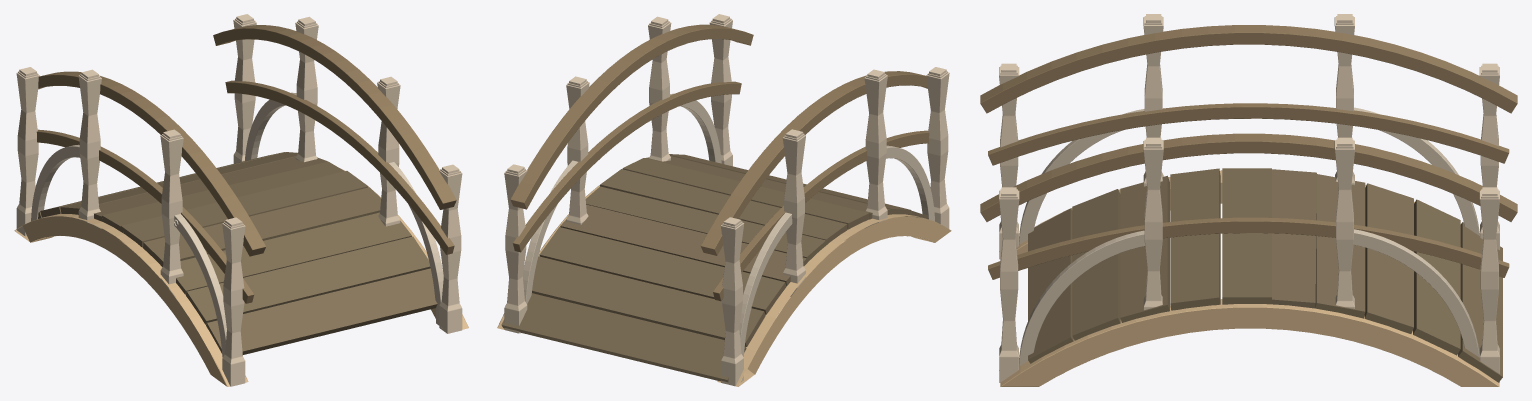
File: Bridge.FBX
The picture shows the model from 3 angles, left to right: view 1: azimuth 30°, elevation 25°; view 2: azimuth 150°, elevation 25°; view 3: azimuth 270°, elevation 25°; orthographic projection. The views are drawn at different scales.
Parts seen in each view (by area): view 1: Group01, pCube11, polySurface1, polySurface5; view 2: pCube11, Group01, polySurface1, polySurface5; view 3: Group01, pCube11, polySurface1, polySurface5.
Boxes of the visible parts, x1,y1,x2,y2 form: Group01: (16, 14, 462, 386); pCube11: (38, 152, 437, 354); polySurface1: (14, 169, 468, 386); polySurface5: (31, 92, 443, 357); pCube11: (501, 154, 927, 382); Group01: (504, 14, 949, 386); polySurface1: (497, 185, 951, 386); polySurface5: (523, 93, 934, 356); Group01: (980, 14, 1517, 382); pCube11: (1028, 168, 1502, 382); polySurface1: (1000, 170, 1499, 386); polySurface5: (999, 107, 1479, 370).
Bounding box in the file's own units: 295 × 238 × 486.
